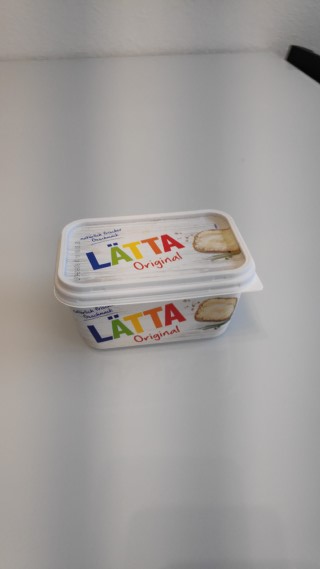laetta: (54, 210, 264, 350)
